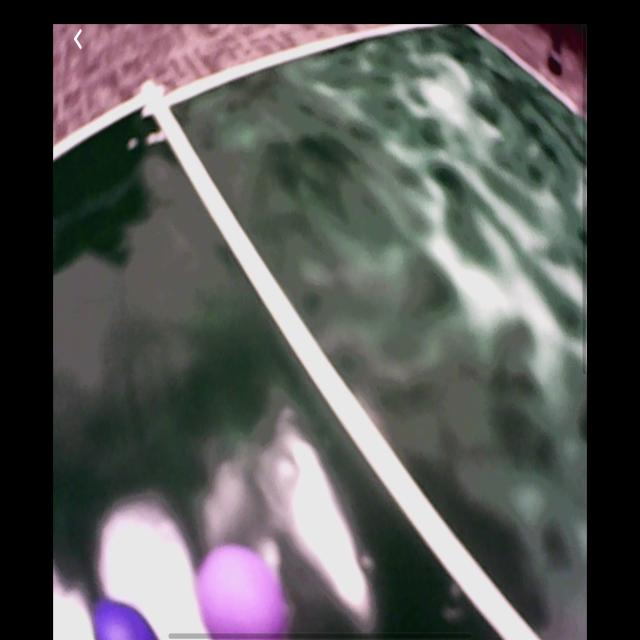ball: (196, 545, 289, 639), (86, 599, 161, 640)
